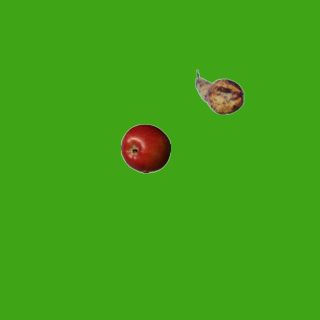Apple Braeburn: (120, 123, 170, 173)
Pear Abate: (194, 67, 244, 117)
